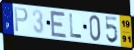0: (88, 14, 102, 42)
3: (32, 9, 45, 36)
5: (105, 16, 119, 45)
E: (49, 10, 68, 40)
L: (68, 13, 83, 39)
P: (13, 6, 29, 33)
